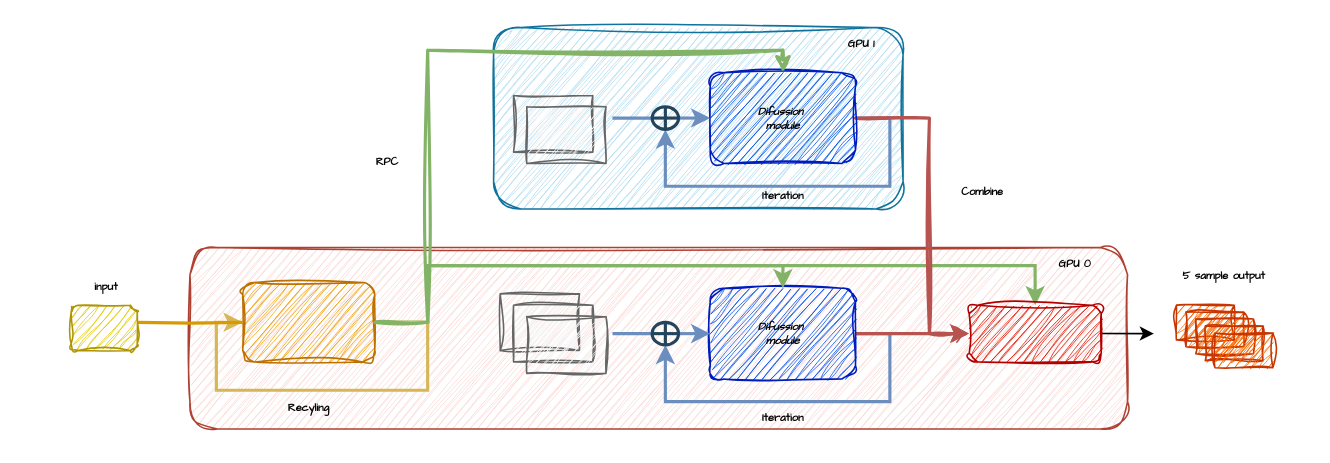
Some shapes in this 1330 by 463 pixel diagram are drawn without their labels. Each missing label, with the centre of its shape:
Confidence module: (1034,333)
Evoformer: (308,321)
